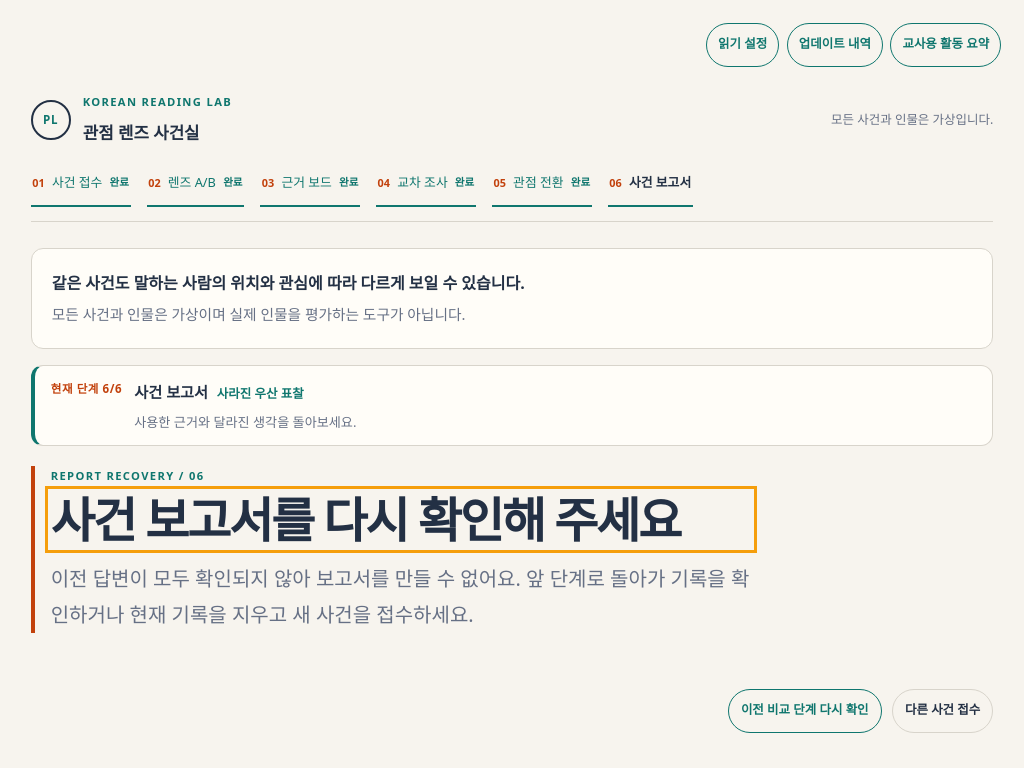
Test: AppShell › recovers an incomplete persisted report with a backward review action
Expected: the message shows "이전 답변이 모두 확인되지 않아 보고서를 만들 수 없어요.", x1=51 y1=565 x2=749 y2=628
Click the button "이전 비교 단계 다시 확인": (805, 711) x1=728 y1=689 x2=882 y2=733
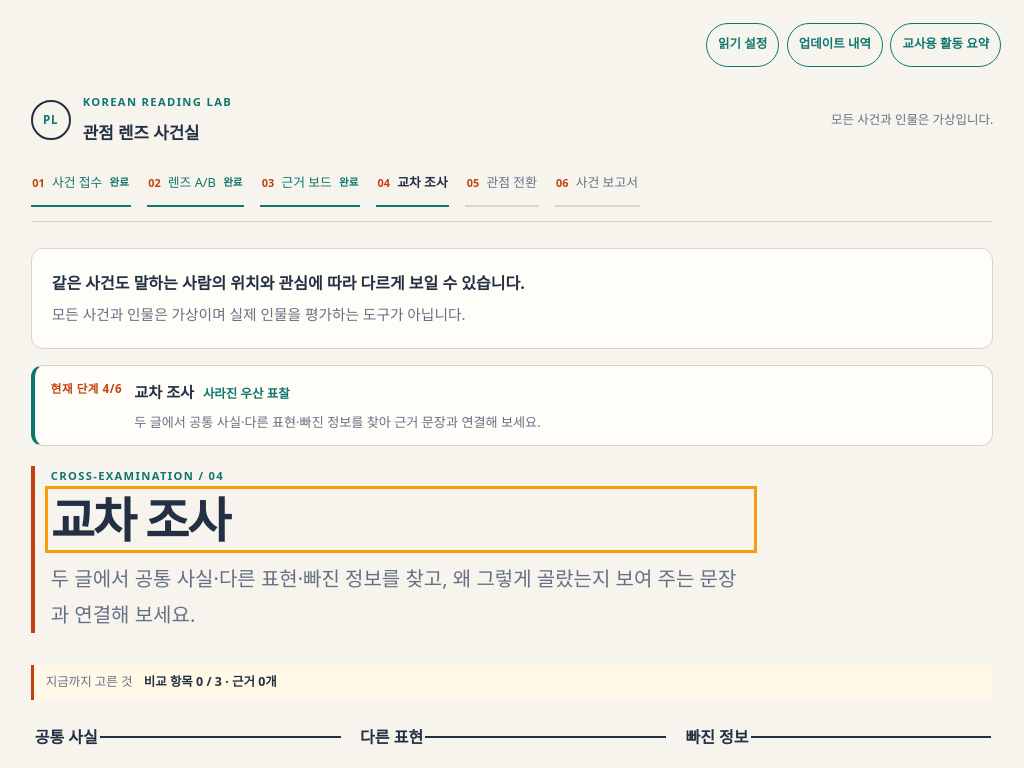
Expected: the heading "교차 조사" is shown, x1=51 y1=487 x2=229 y2=552
